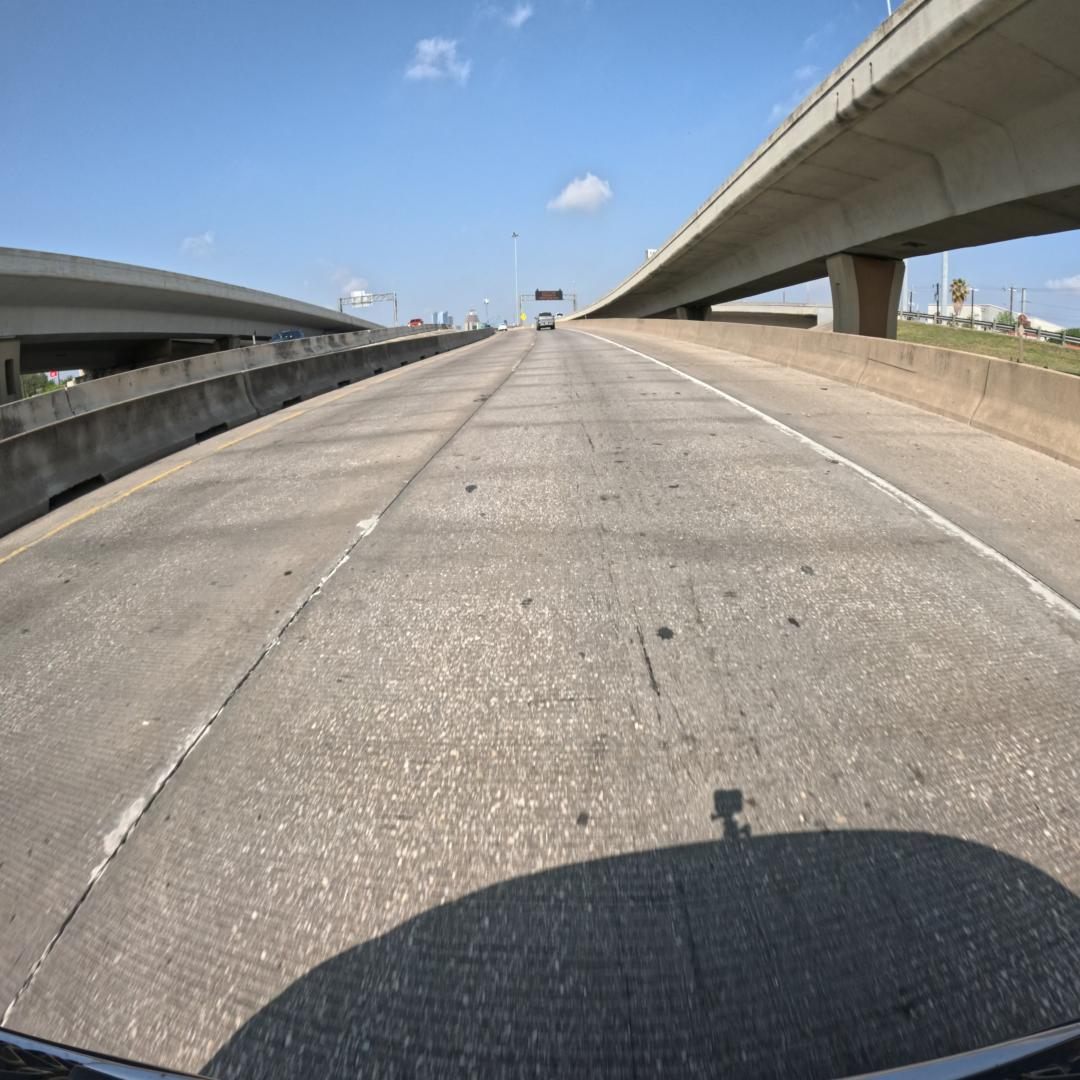lane0: (8, 330, 1080, 1077)
lane1: (0, 332, 534, 1014)
